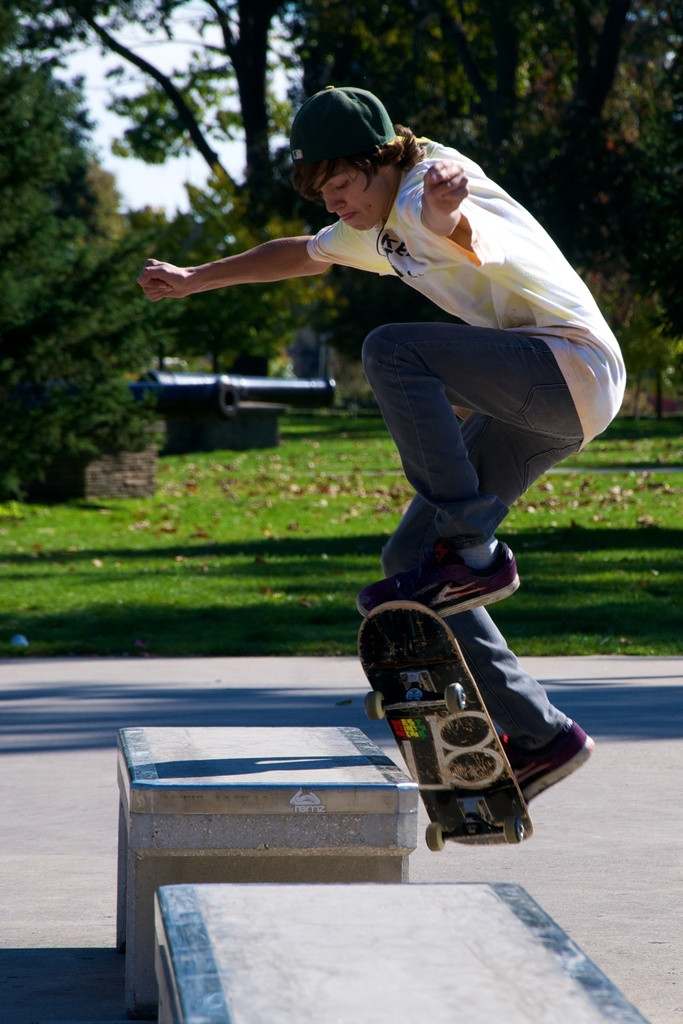Person: (136, 85, 627, 805)
